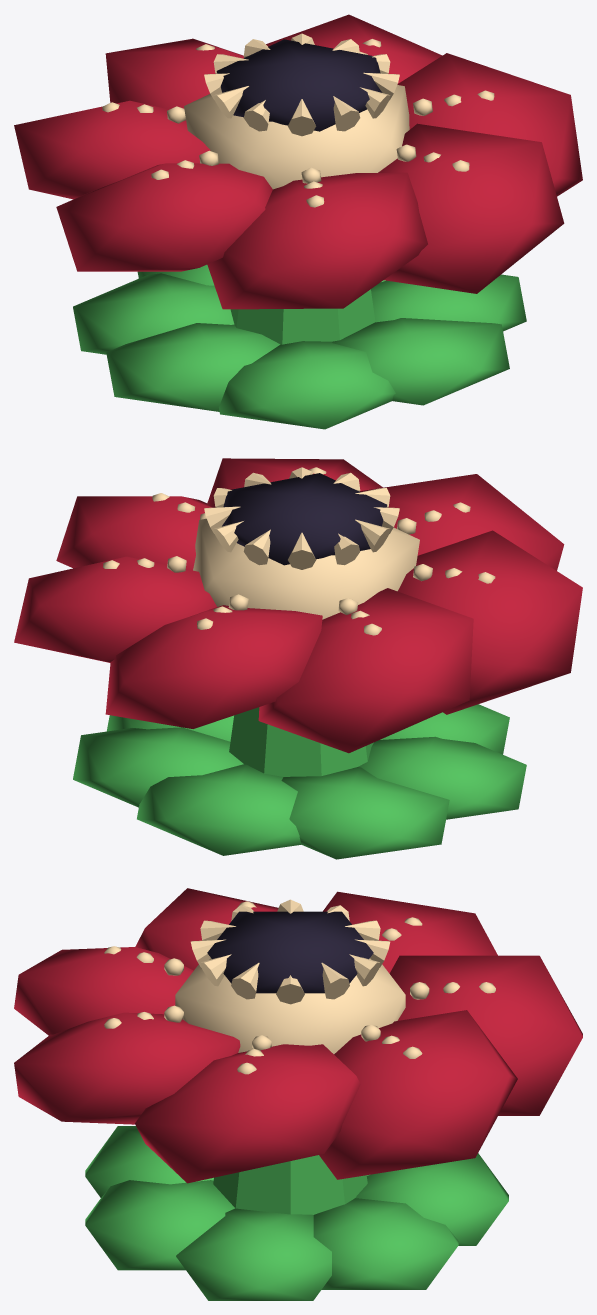
Rendered from hat-t-flower.glb.
3 renders of one model, top to bottom at view 1: azimuth 30°, elevation 25°; view 2: azimuth 150°, elevation 25°; view 3: azimuth 270°, elevation 25°, orthographic.
Visible parts, largest first — view 1: hat_t_flower@head; view 2: hat_t_flower@head; view 3: hat_t_flower@head.
Part boxes in pixels (x1,y1,x2,y2): hat_t_flower@head: (14,14,582,429); hat_t_flower@head: (14,458,582,859); hat_t_flower@head: (14,888,582,1300).
Size of the model in its own units: 0.8 by 0.45 by 0.7831.
